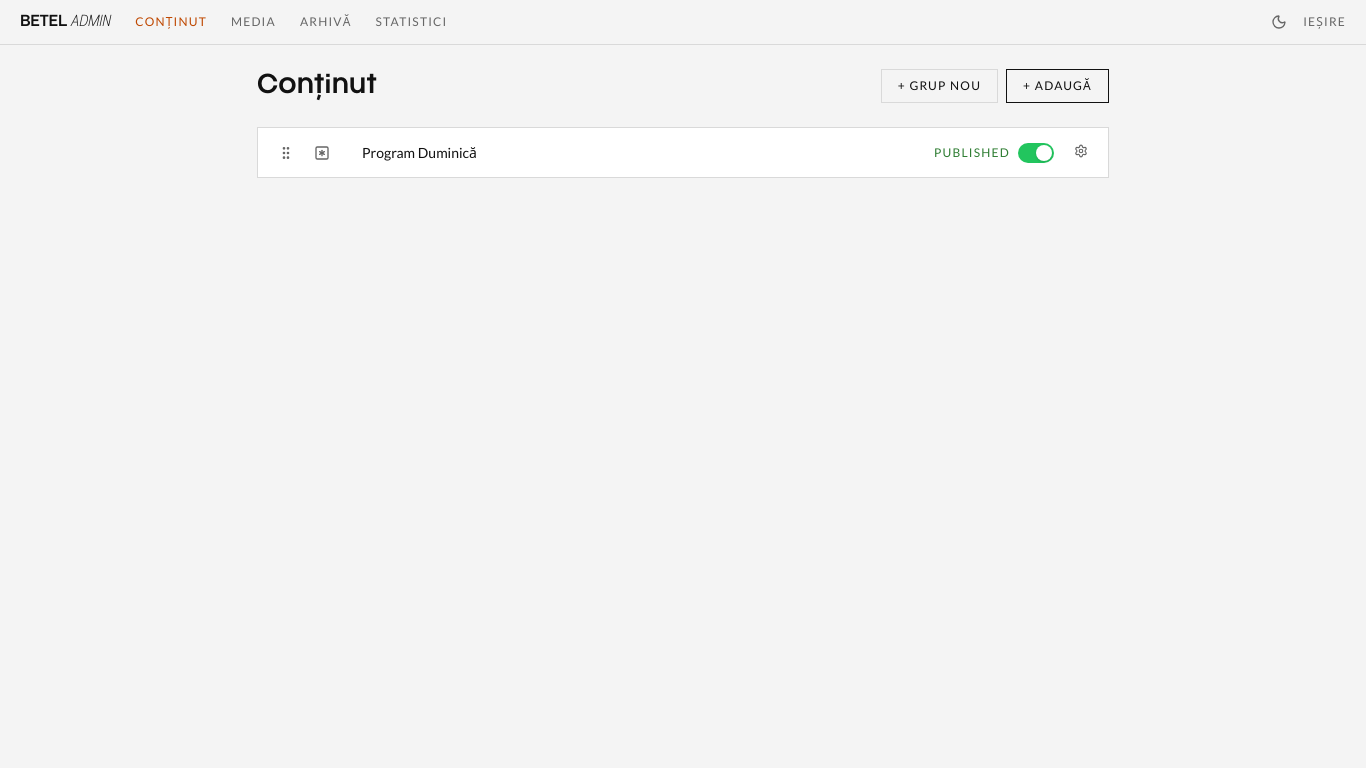
Test: Admin — Short Links tab › shows the Short Links tab when editing a content item
The width and height of the screenshot is (1366, 768).
Click the button with test id "content-name-item-1". click: (419, 152)
box: [362,143,918,163]
(page scrolled)
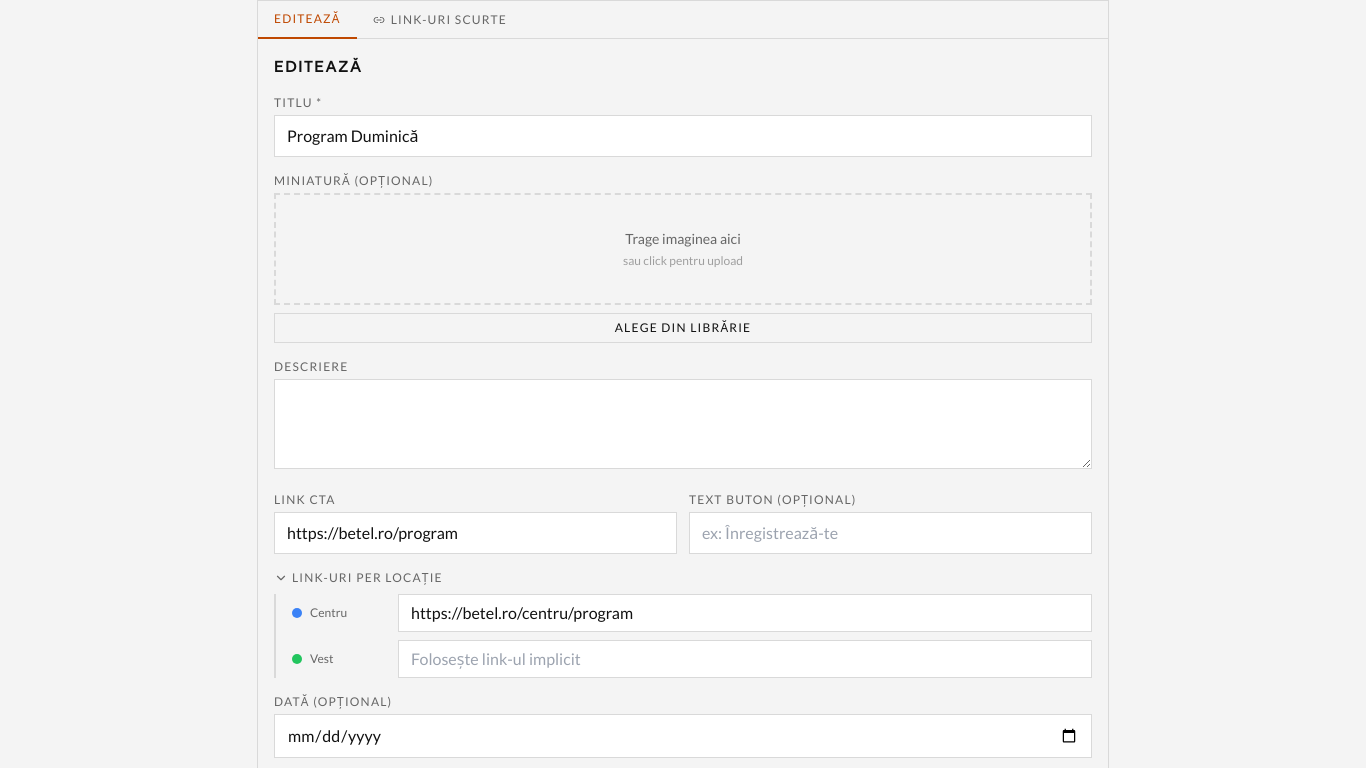
Expected: the button with test id "tab-edit" is shown, [258,1,357,39]
Expected: the button with test id "tab-short-links" is shown, [357,1,523,38]
